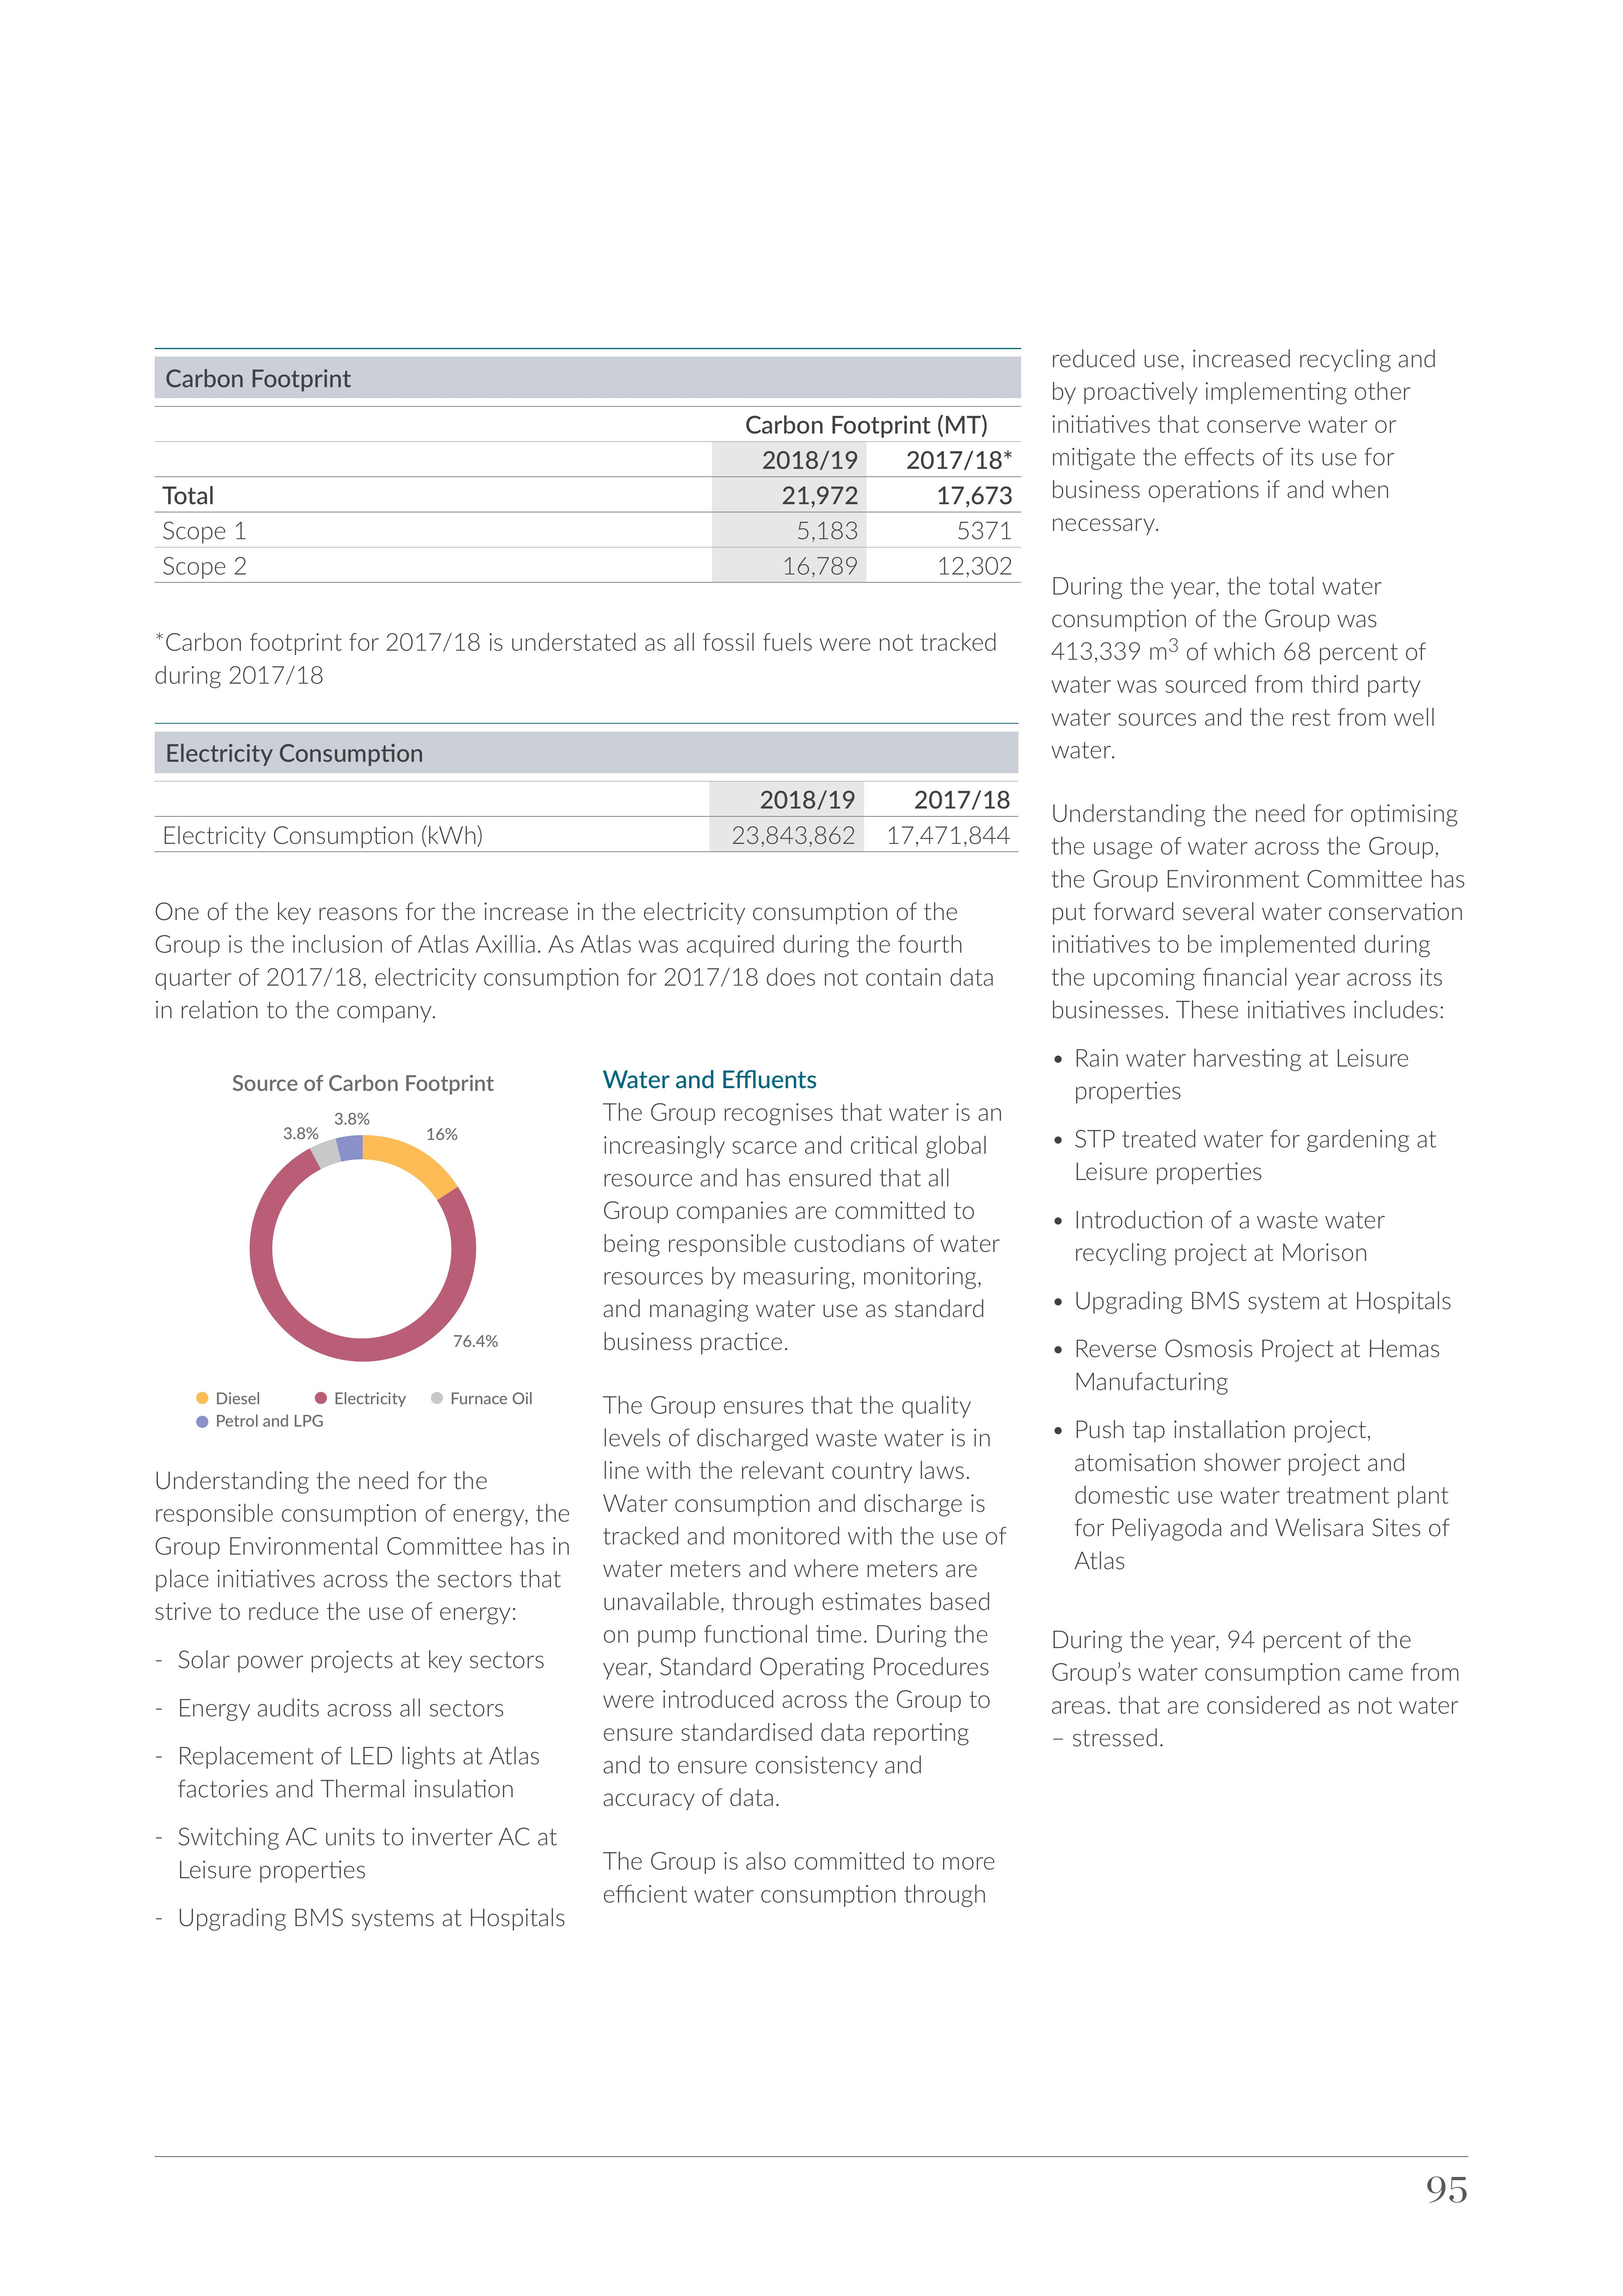table: (146, 337, 1033, 599), (146, 718, 1029, 884)
